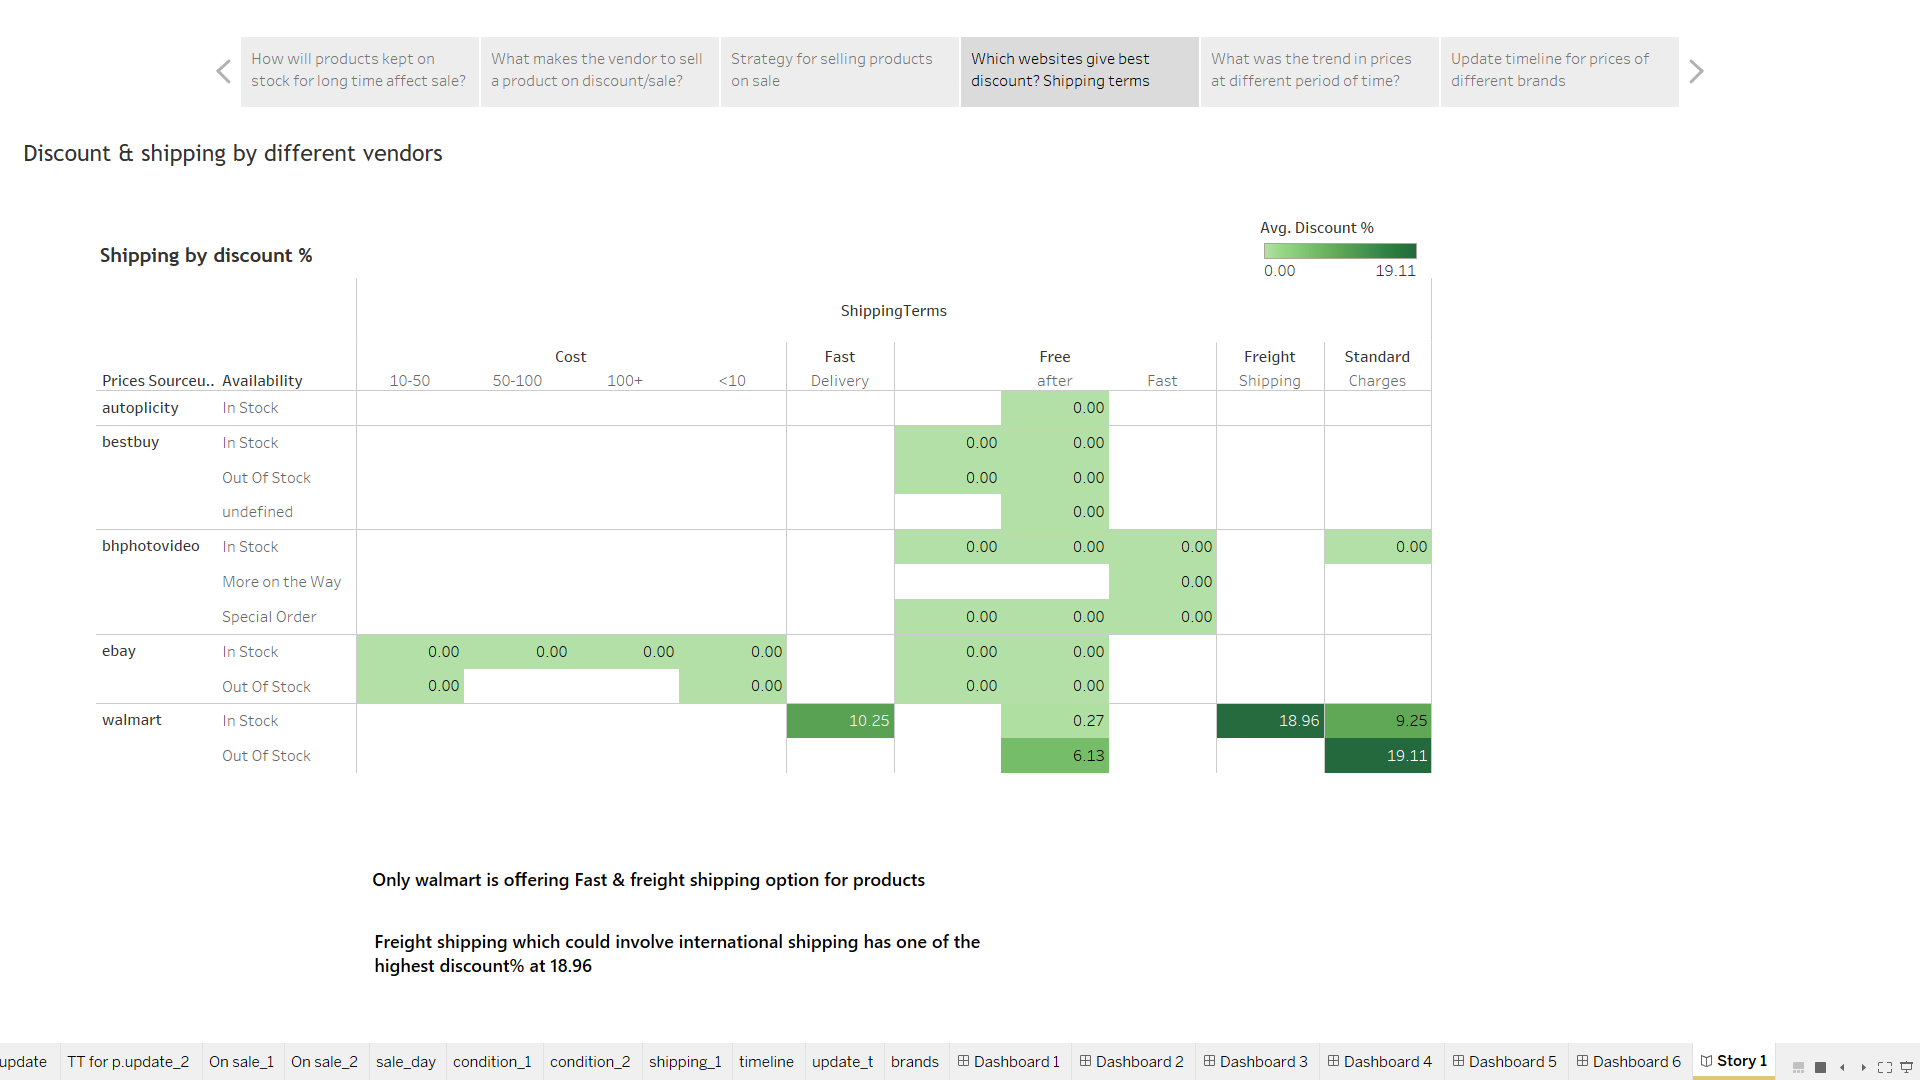

What the dashboard file says about the page in this screenshot:
{"tool":"tableau","page":{"name":"Dashboard 4","canvas":[1000,1000],"units":"permille","ordinal":3},"visuals":[{"type":"title","box":[4.8,9.3,990.3,40.6]},{"type":"legend","title":"shipping_1","param":"[federated.1vl33a51myhwji18jspvm1r1us8n].[avg:Discount %:qk]","box":[657.8,98.7,84.5,102.2]},{"type":"worksheet","title":"shipping_1","mark":"Square","rows":["prices_sourceurls","Availability"],"cols":["Calculation_517913995997343752","Calculation_517913995997376521"],"box":[46.5,123.1,701.9,588.9]},{"type":"text","box":[189.5,795.6,334.9,66.2]},{"type":"text","box":[190.7,873.4,333.1,72]}]}

Visuals, with their boxes on the dashboard's canvas, which has no fixed pixel size, in thousandths of its width and height (x1, y1, x2, y2). These are canvas units, not pixel positions in the 1920x1080 screenshot, which may show the page scaled, cropped or inside an application window:
title: {"left": 5, "top": 9, "right": 995, "bottom": 50}
"shipping_1" legend: {"left": 658, "top": 99, "right": 742, "bottom": 201}
"shipping_1" worksheet (Square marks): {"left": 46, "top": 123, "right": 748, "bottom": 712}
text: {"left": 190, "top": 796, "right": 524, "bottom": 862}
text: {"left": 191, "top": 873, "right": 524, "bottom": 945}
